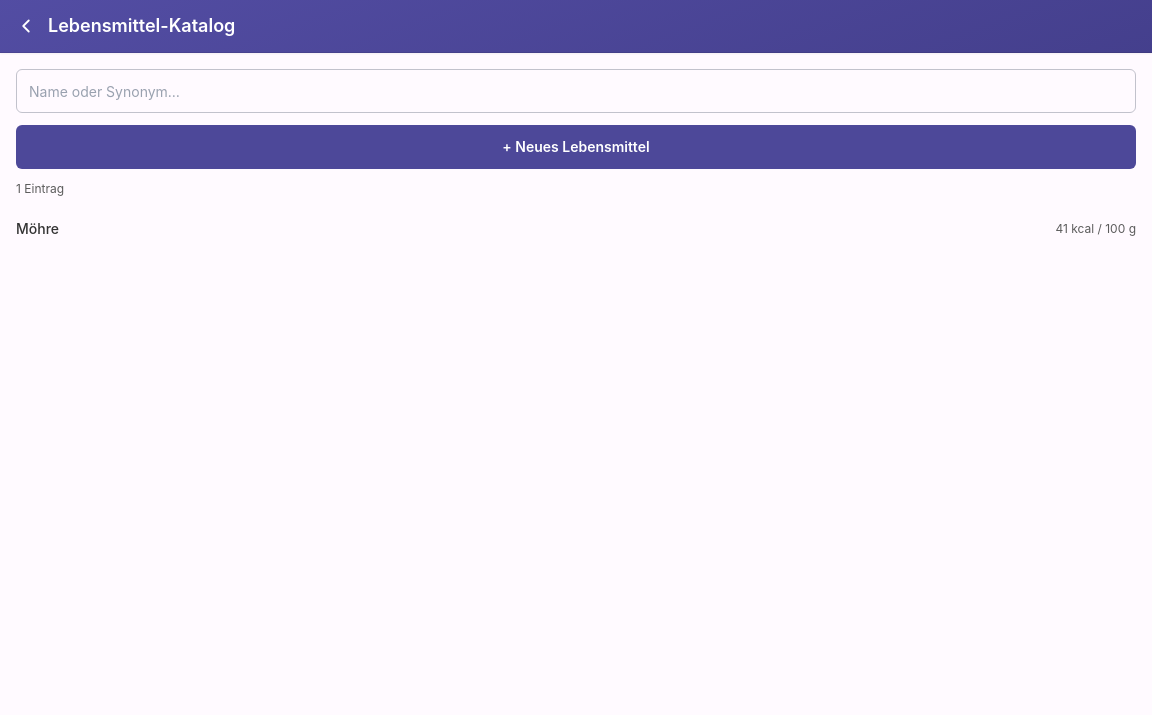
Test: Catalog editor in the demo › has no AI fill button, but the fields stay editable
Click the button with aria-label "möhre bearbeiten". click: click(38, 228)
box: [16,209,1136,249]
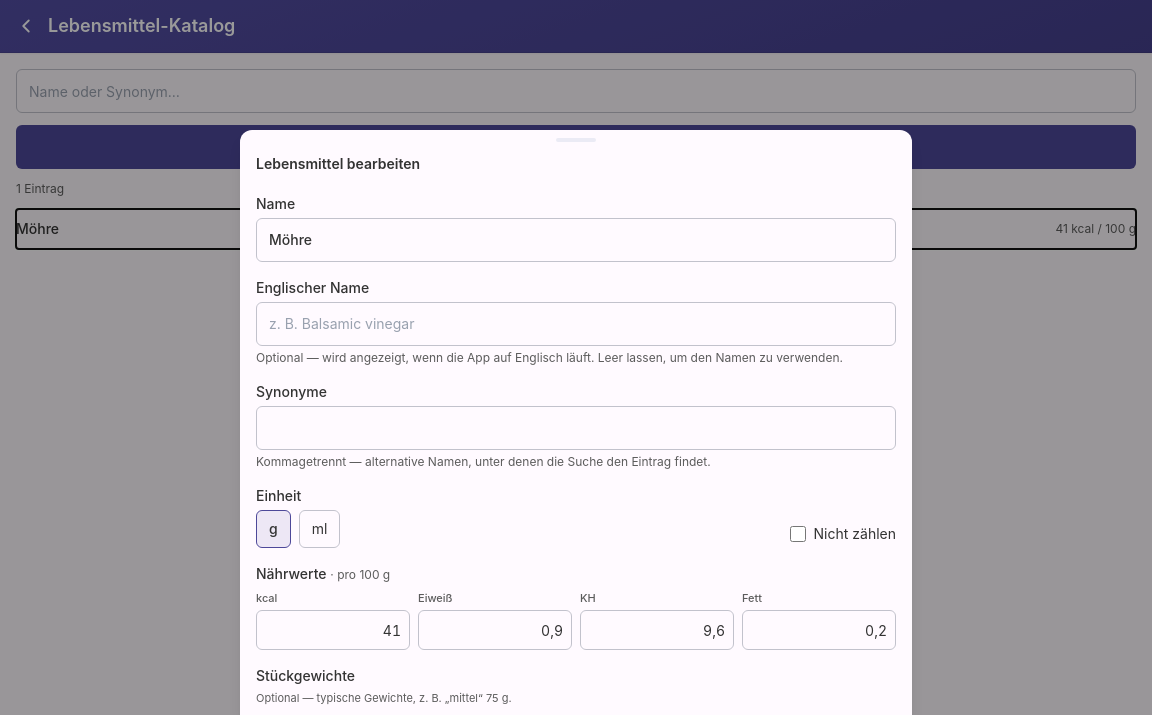
Expected: the field labelled "Englischer Name" is shown, [256,302,896,346]
